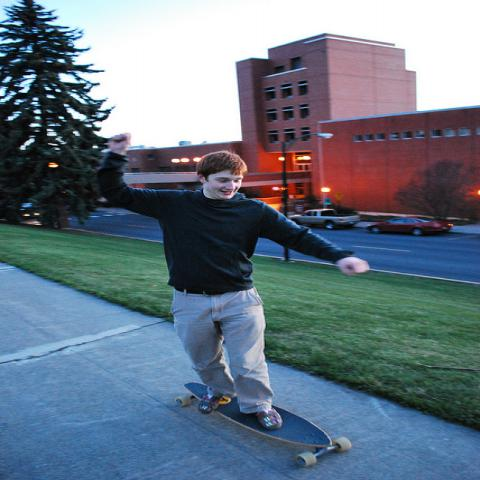car: (366, 217, 454, 236)
truck: (287, 207, 361, 230)
